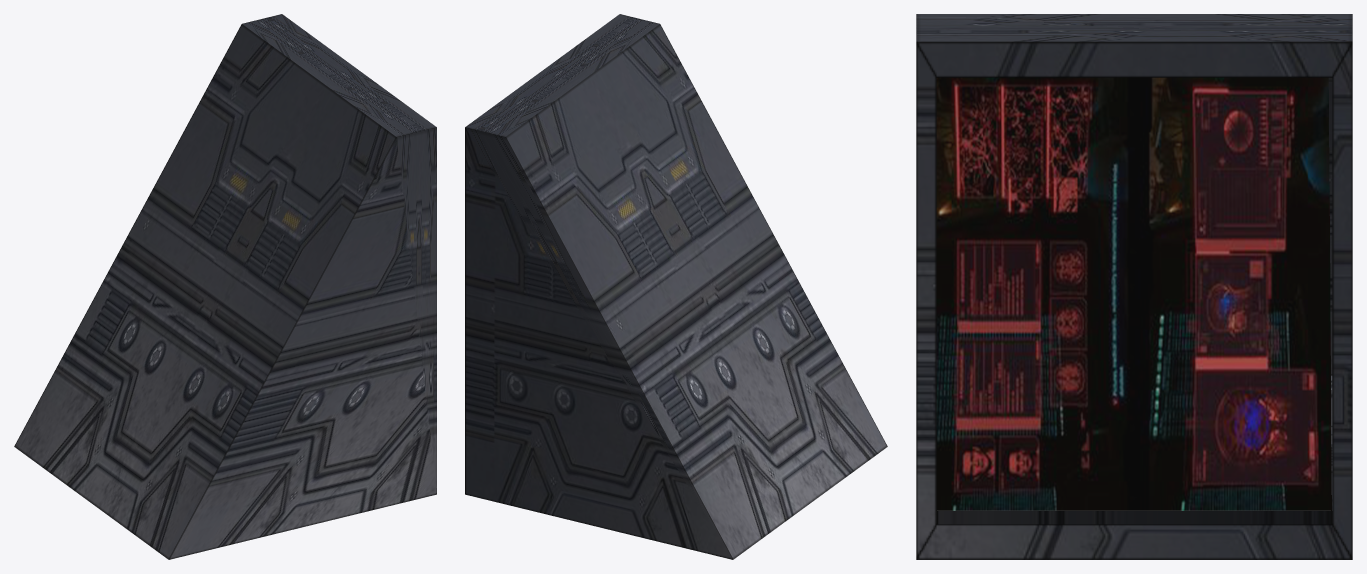
The model's file is je ne sais pas.fbx.
3 views of the same model, side by side, from view 1: azimuth 30°, elevation 25°; view 2: azimuth 150°, elevation 25°; view 3: azimuth 270°, elevation 25° (orthographic). The views are drawn at different scales.
Parts seen in each view (by area): view 1: Cube; view 2: Cube; view 3: Cube.
Boxes of the visible parts, x1,y1,x2,y2 form: Cube: (14, 14, 436, 559); Cube: (465, 14, 887, 559); Cube: (916, 14, 1352, 559).
Size of the model in its own units: 200 by 262 by 200.
